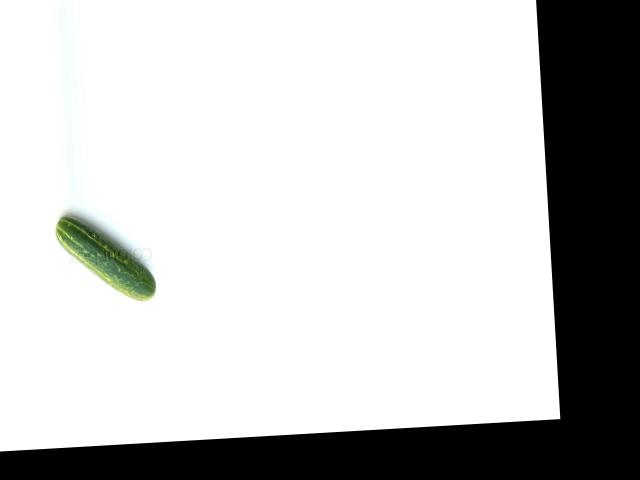cucumber: (53, 210, 156, 306)
